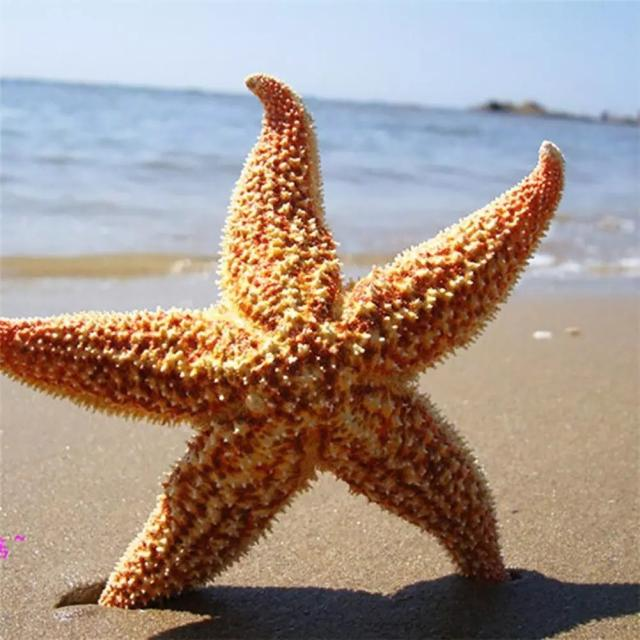starfish: (0, 74, 563, 607)
